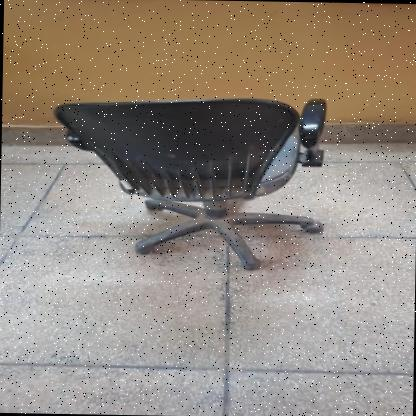chair: (40, 78, 341, 282)
